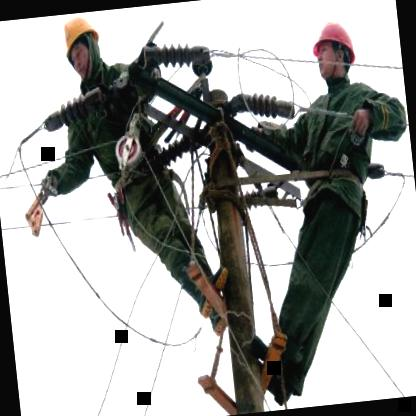helmet: (306, 11, 362, 88), (57, 11, 105, 84)
